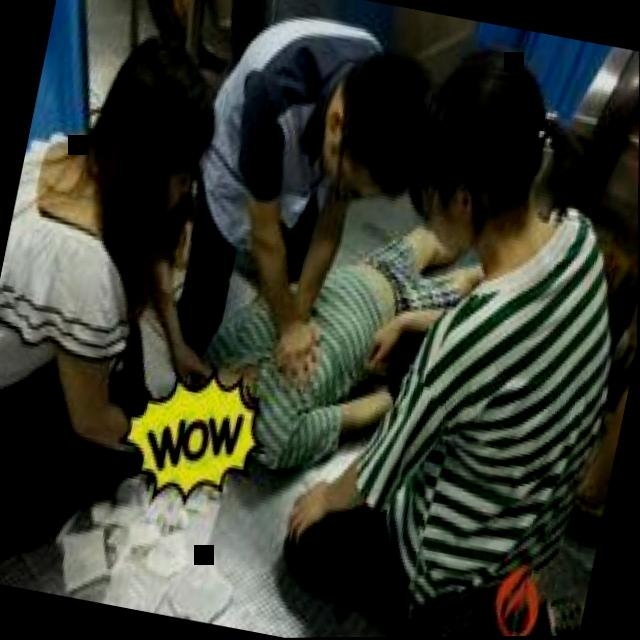Fall-Detected: (199, 163, 480, 508)
